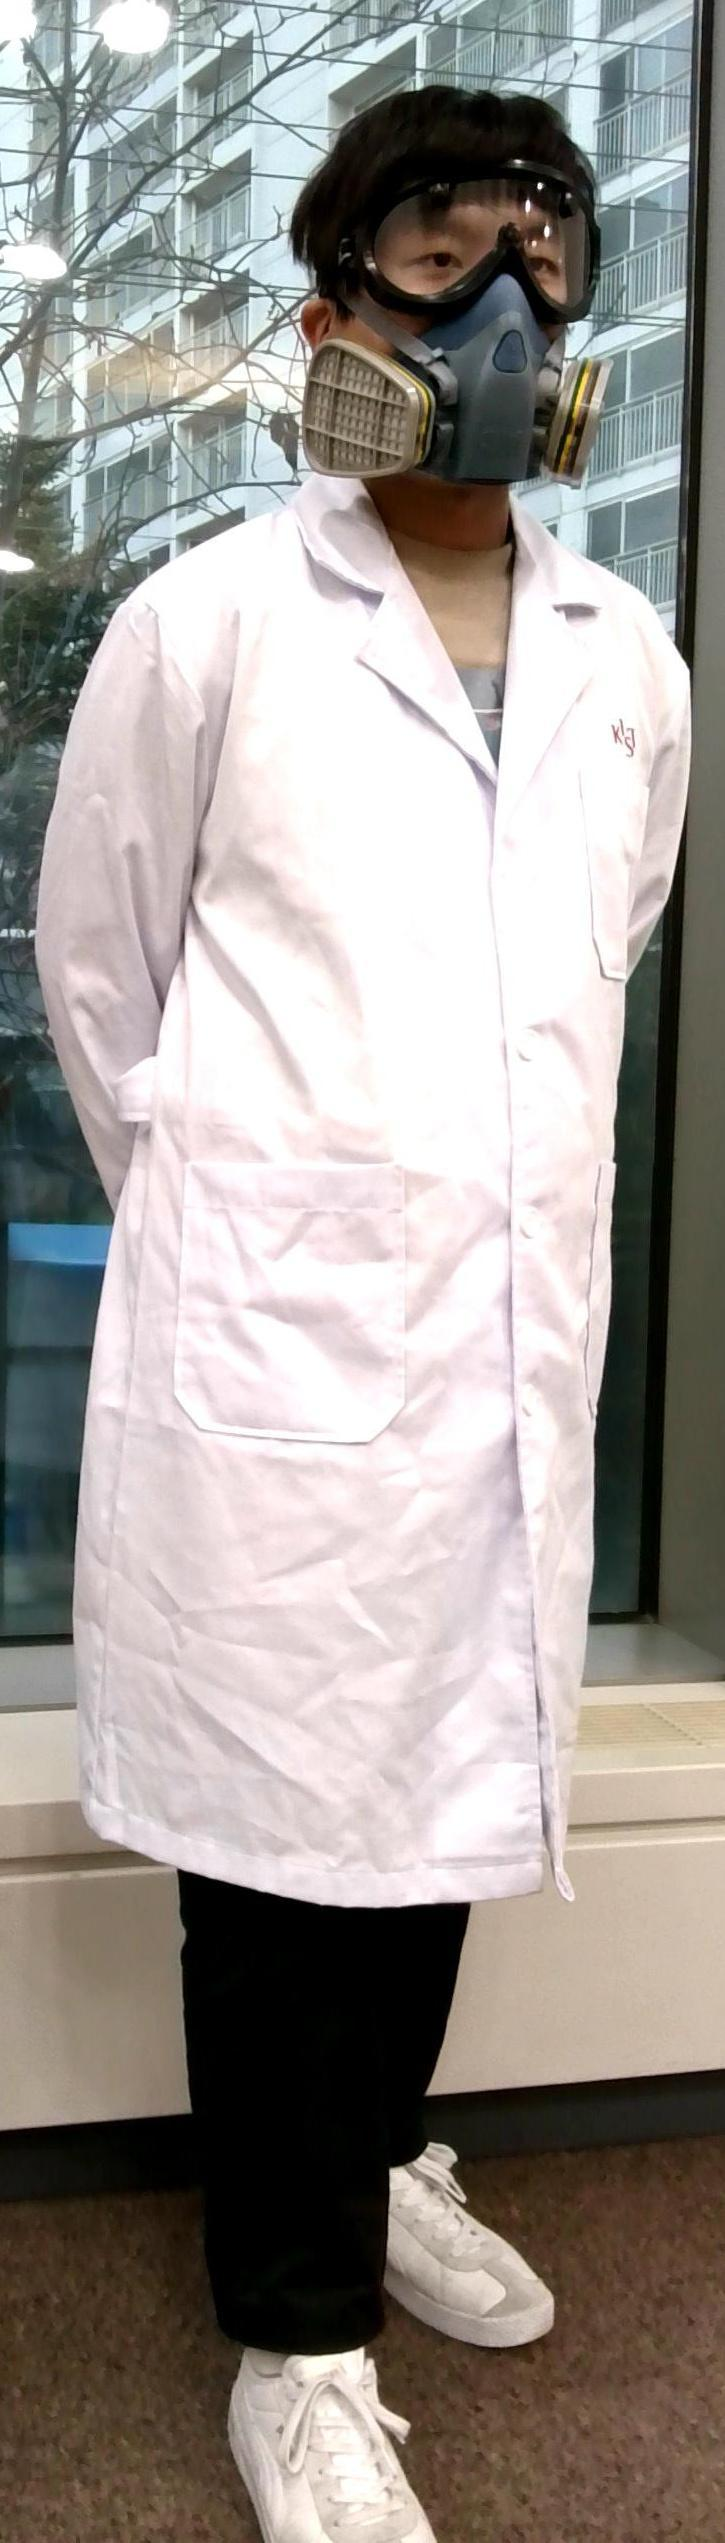lab_coat: (11, 511, 725, 1932)
